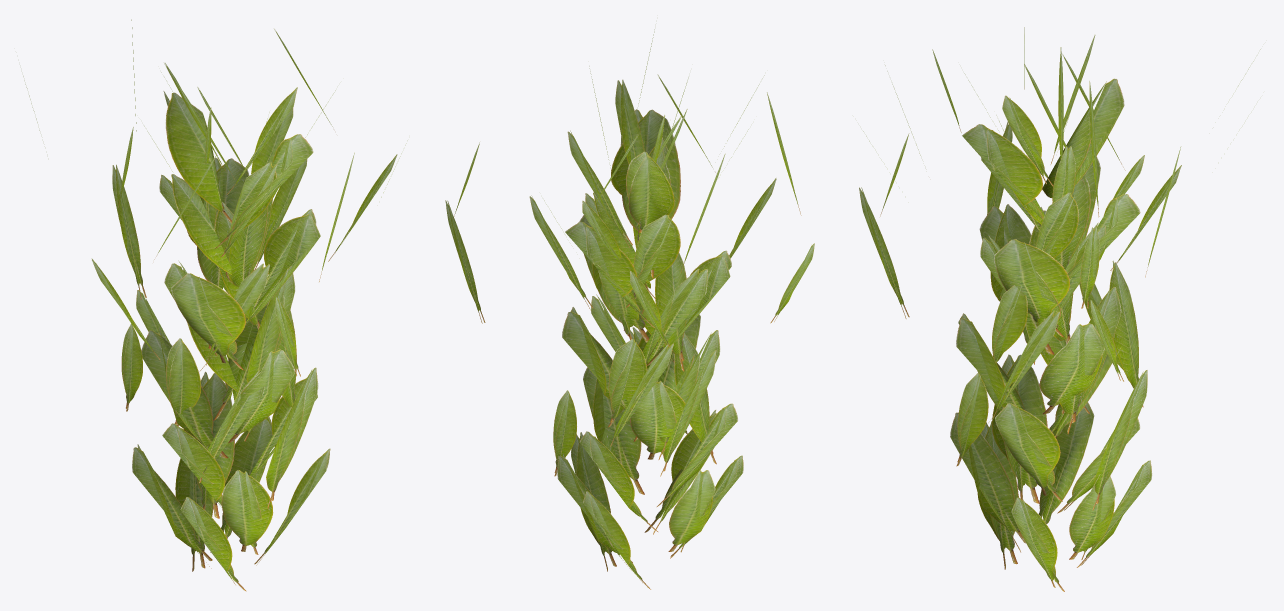
File: heather leaves.fbx
3 renders of one model, left to right at view 1: azimuth 30°, elevation 25°; view 2: azimuth 150°, elevation 25°; view 3: azimuth 270°, elevation 25°, orthographic. The views are drawn at different scales.
Parts seen in each view (by area): view 1: leaf tropical01_1; view 2: leaf tropical01_1; view 3: leaf tropical01_1.
Boxes of the visible parts, left/top/right/bottom form: leaf tropical01_1: left=23, top=19, right=407, bottom=591; leaf tropical01_1: left=445, top=29, right=814, bottom=589; leaf tropical01_1: left=859, top=27, right=1260, bottom=591.
Bounding box in the file's own units: 76.15 × 105 × 75.8.
Materials: 1 (1 with a texture image).
